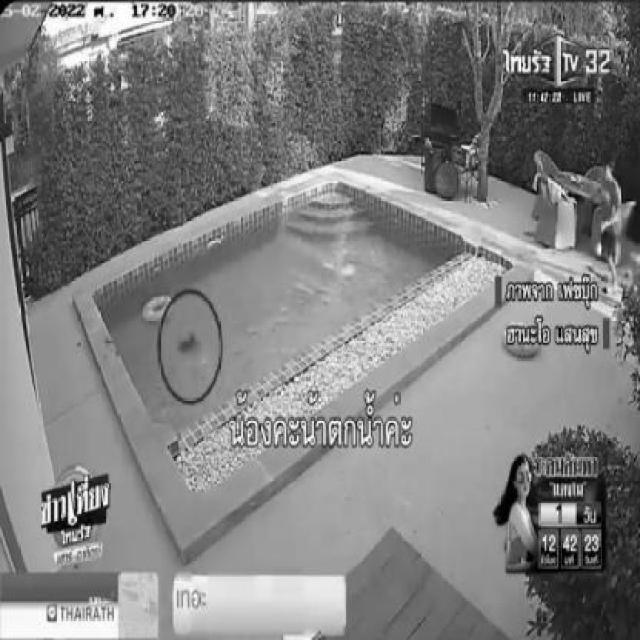drowning: (172, 318, 206, 374)
